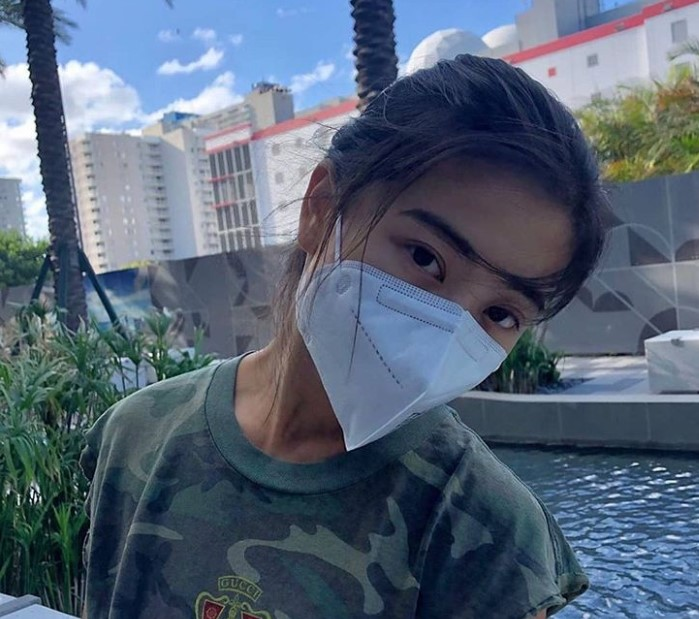face_with_mask: (280, 54, 605, 459)
